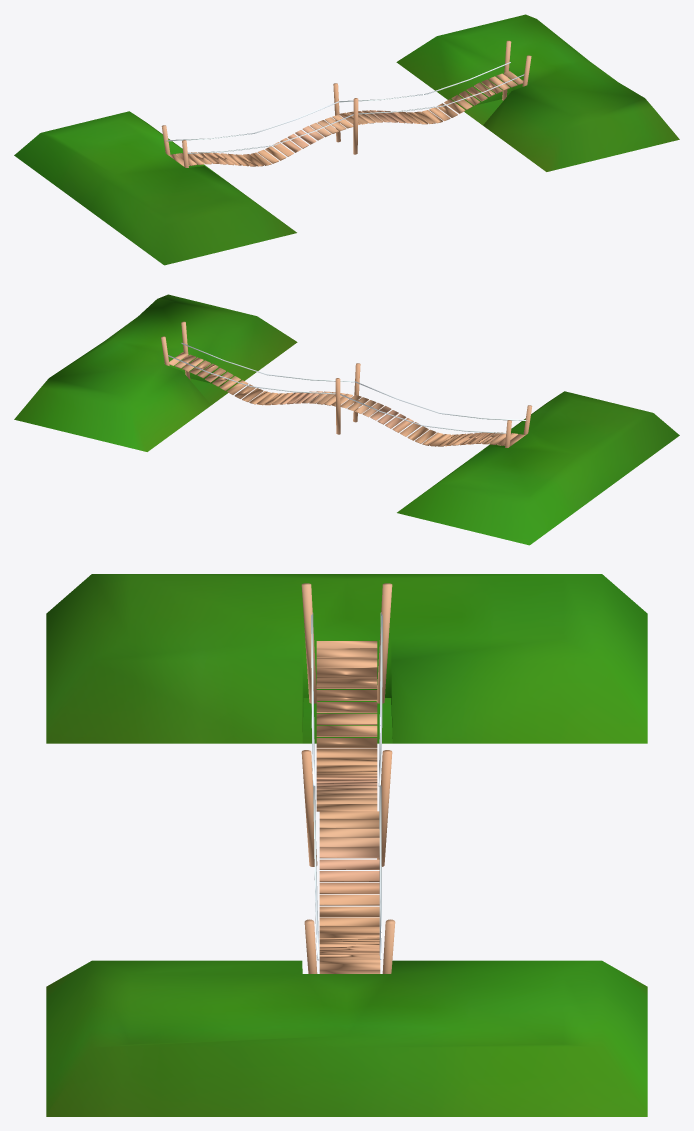
Rendered from WoodenRopeWavyBridgeWithGrassLand.glb.
3 views of the same model, one above another, from view 1: azimuth 30°, elevation 25°; view 2: azimuth 150°, elevation 25°; view 3: azimuth 270°, elevation 25° (orthographic). The views are drawn at different scales.
Visible parts, largest first — view 1: WoodenRopeWavyBridgeWithGrassLand; view 2: WoodenRopeWavyBridgeWithGrassLand; view 3: WoodenRopeWavyBridgeWithGrassLand.
Boxes of the visible parts, bbox=[...] form: WoodenRopeWavyBridgeWithGrassLand: bbox=[14, 14, 679, 265]; WoodenRopeWavyBridgeWithGrassLand: bbox=[14, 294, 679, 545]; WoodenRopeWavyBridgeWithGrassLand: bbox=[46, 574, 647, 1116].
Bounding box in the file's own units: 26.3 × 2.74 × 13.28.
Materials: 1 (1 with a texture image).
